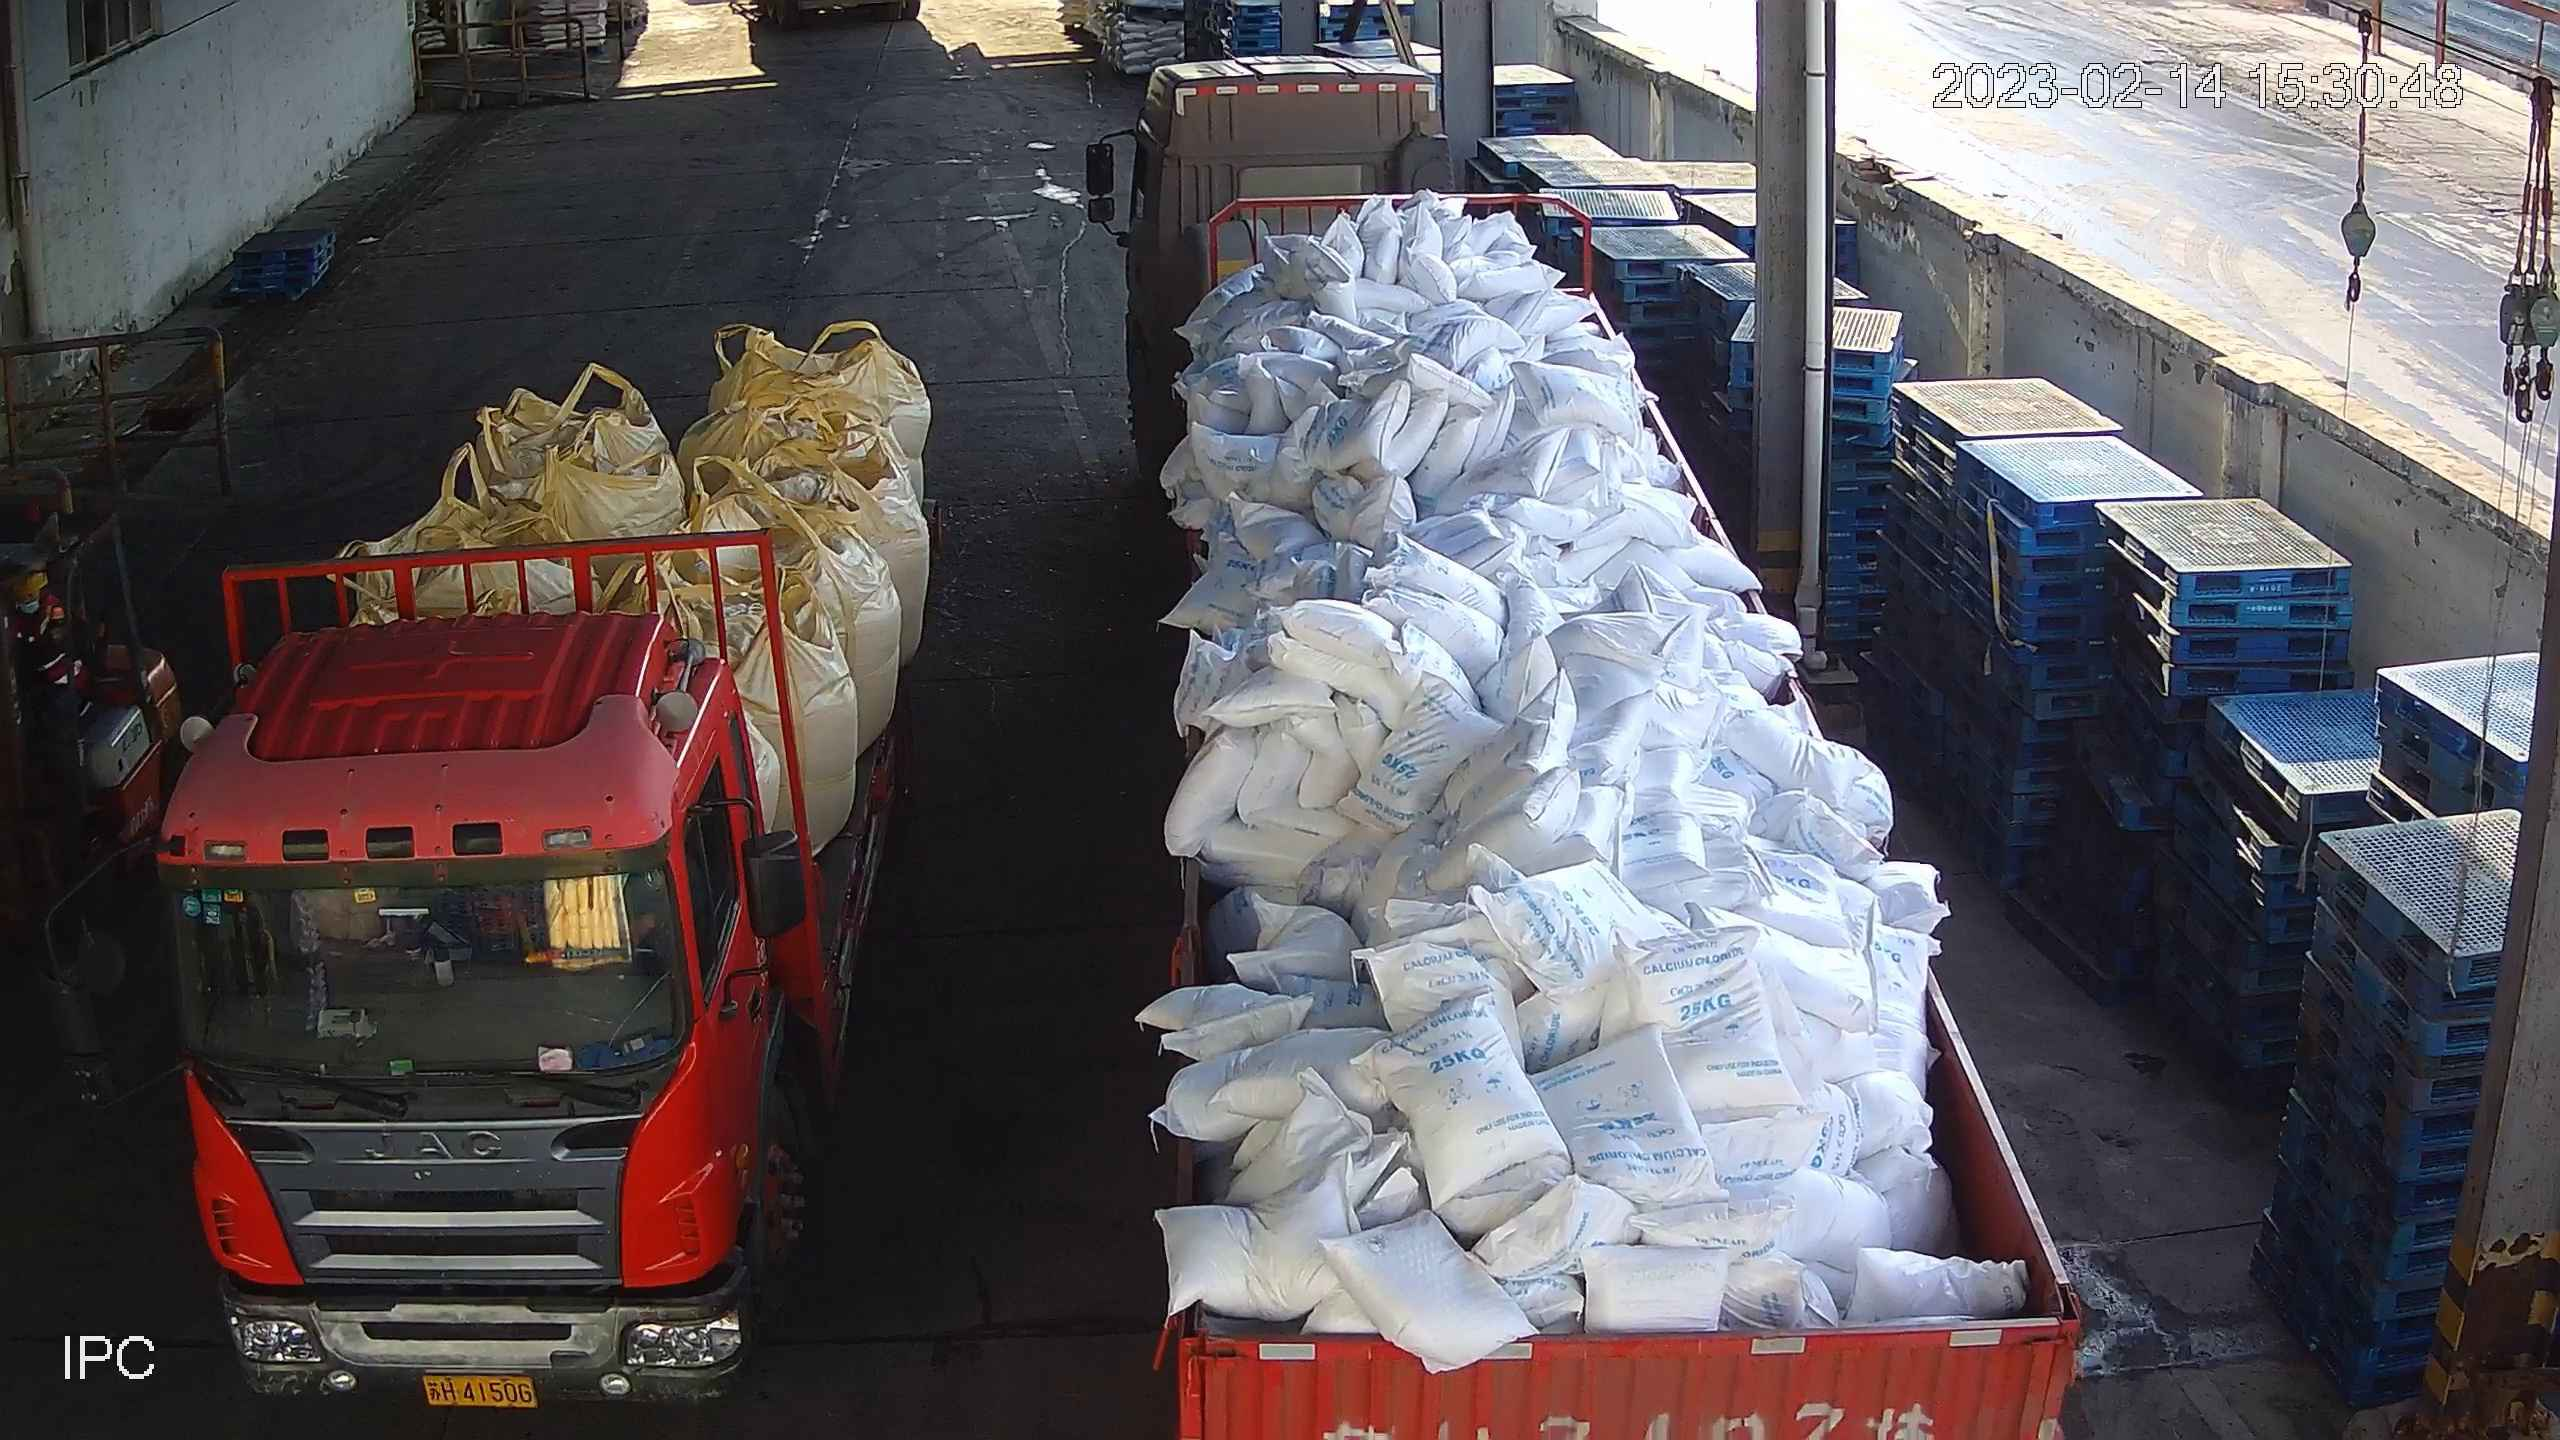truck: (1081, 53, 2082, 1440), (28, 492, 935, 1412)
